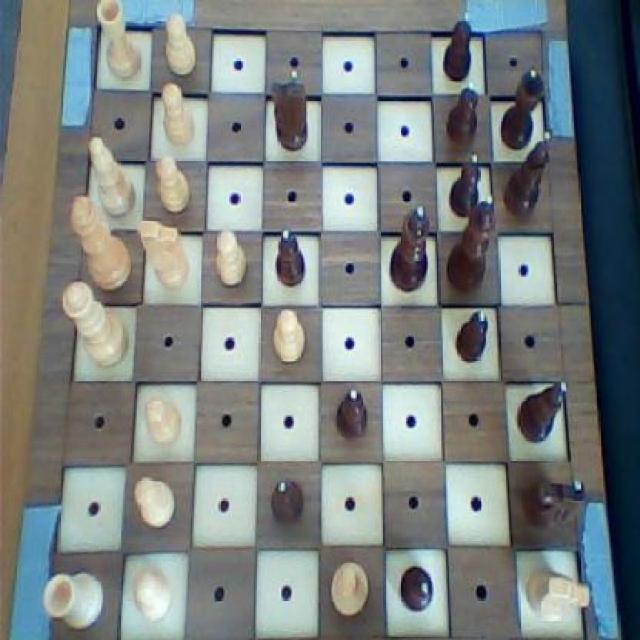bishop: (503, 128, 557, 225), (514, 377, 571, 448)
black-bishop: (444, 194, 498, 298)
black-king: (522, 472, 590, 538), (268, 68, 313, 157)
black-knight: (438, 8, 479, 86), (441, 80, 484, 153), (446, 148, 486, 216), (272, 222, 310, 290), (396, 556, 438, 616), (452, 308, 493, 368), (334, 386, 372, 442), (270, 474, 308, 528)
black-pawn: (383, 198, 432, 292)
black-queen: (497, 63, 546, 147)
black-rook: (84, 131, 138, 223), (324, 557, 374, 620)
white-bishop: (66, 191, 136, 295)
white-king: (518, 560, 594, 631), (132, 214, 192, 298)
white-knight: (126, 560, 182, 631), (152, 149, 195, 221), (160, 9, 202, 82), (130, 472, 178, 532), (212, 224, 252, 292), (269, 303, 310, 369), (160, 75, 197, 148), (142, 391, 184, 451)
white-pawn: (58, 280, 132, 369)
white-queen: (37, 566, 108, 634), (92, 0, 146, 85)
